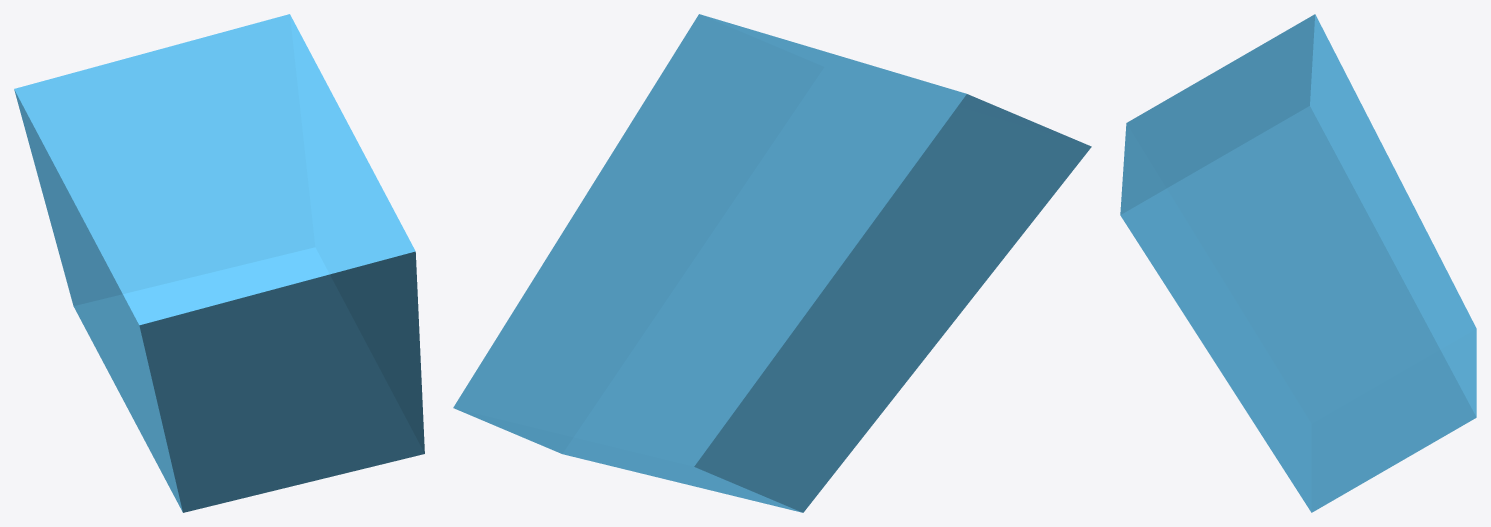
The model's file is Event_421127236_HBrechit_5.fbx.
3 views of the same model, side by side, from view 1: azimuth 30°, elevation 25°; view 2: azimuth 150°, elevation 25°; view 3: azimuth 270°, elevation 25° (orthographic). The views are drawn at different scales.
Visible parts, largest first — view 1: Model; view 2: Model; view 3: Model.
Boxes of the visible parts, box(x1,y1,x2,y2) form: Model: box(14, 14, 424, 512); Model: box(453, 14, 1091, 512); Model: box(1120, 14, 1476, 512).
Size of the model in its own units: 0.7292 by 0.8086 by 0.7314.
